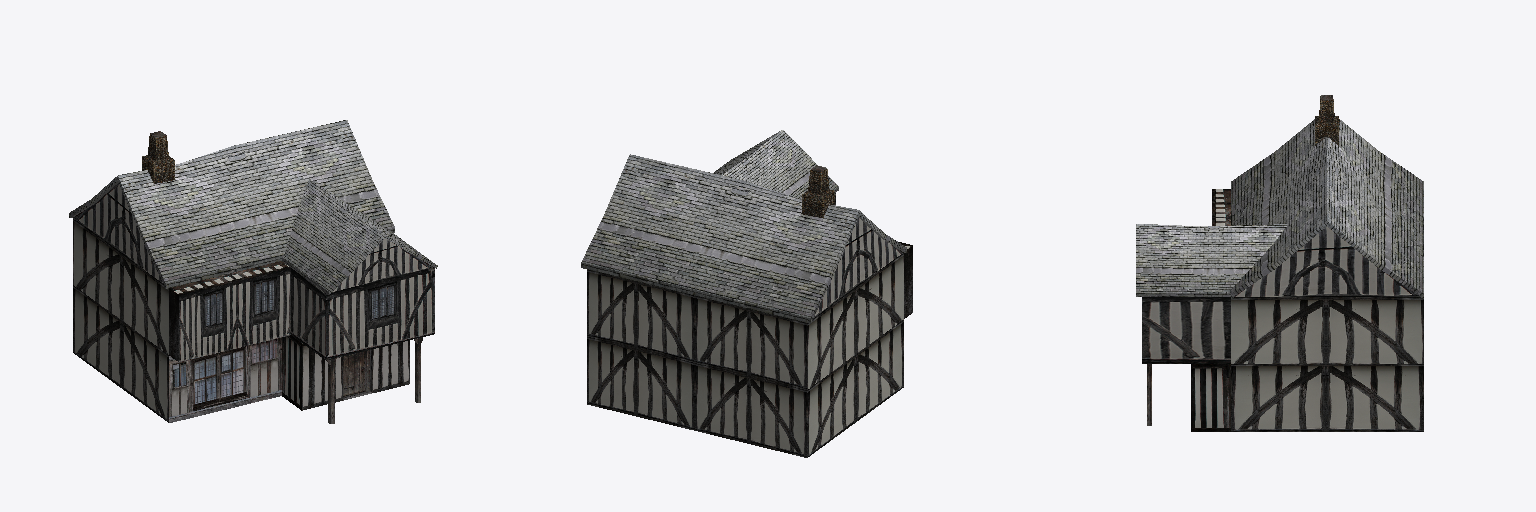
3 renders of one model, left to right at view 1: azimuth 30°, elevation 25°; view 2: azimuth 150°, elevation 25°; view 3: azimuth 270°, elevation 25°, orthographic.
Parts seen in each view (by area): view 1: __MED_HOUSE5, __Form6; view 2: __MED_HOUSE5; view 3: __MED_HOUSE5.
Boxes of the visible parts, x1,y1,x2,y2 form: __MED_HOUSE5: [69, 120, 437, 422]; __Form6: [328, 338, 420, 423]; __MED_HOUSE5: [581, 130, 912, 457]; __MED_HOUSE5: [1136, 95, 1423, 431].
Size of the model in its own units: 416 by 424 by 453.
Materials: 1 (1 with a texture image).